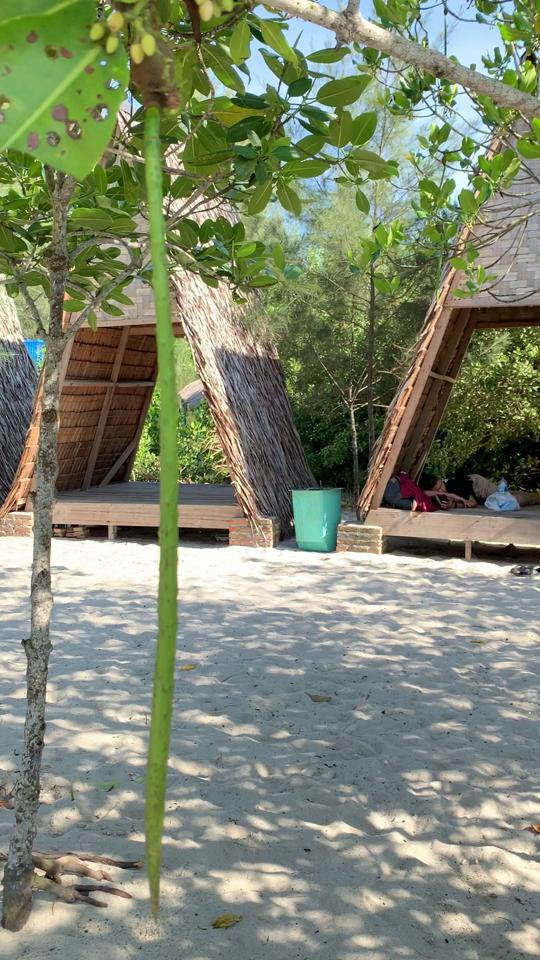mentah: (112, 19, 204, 932)
